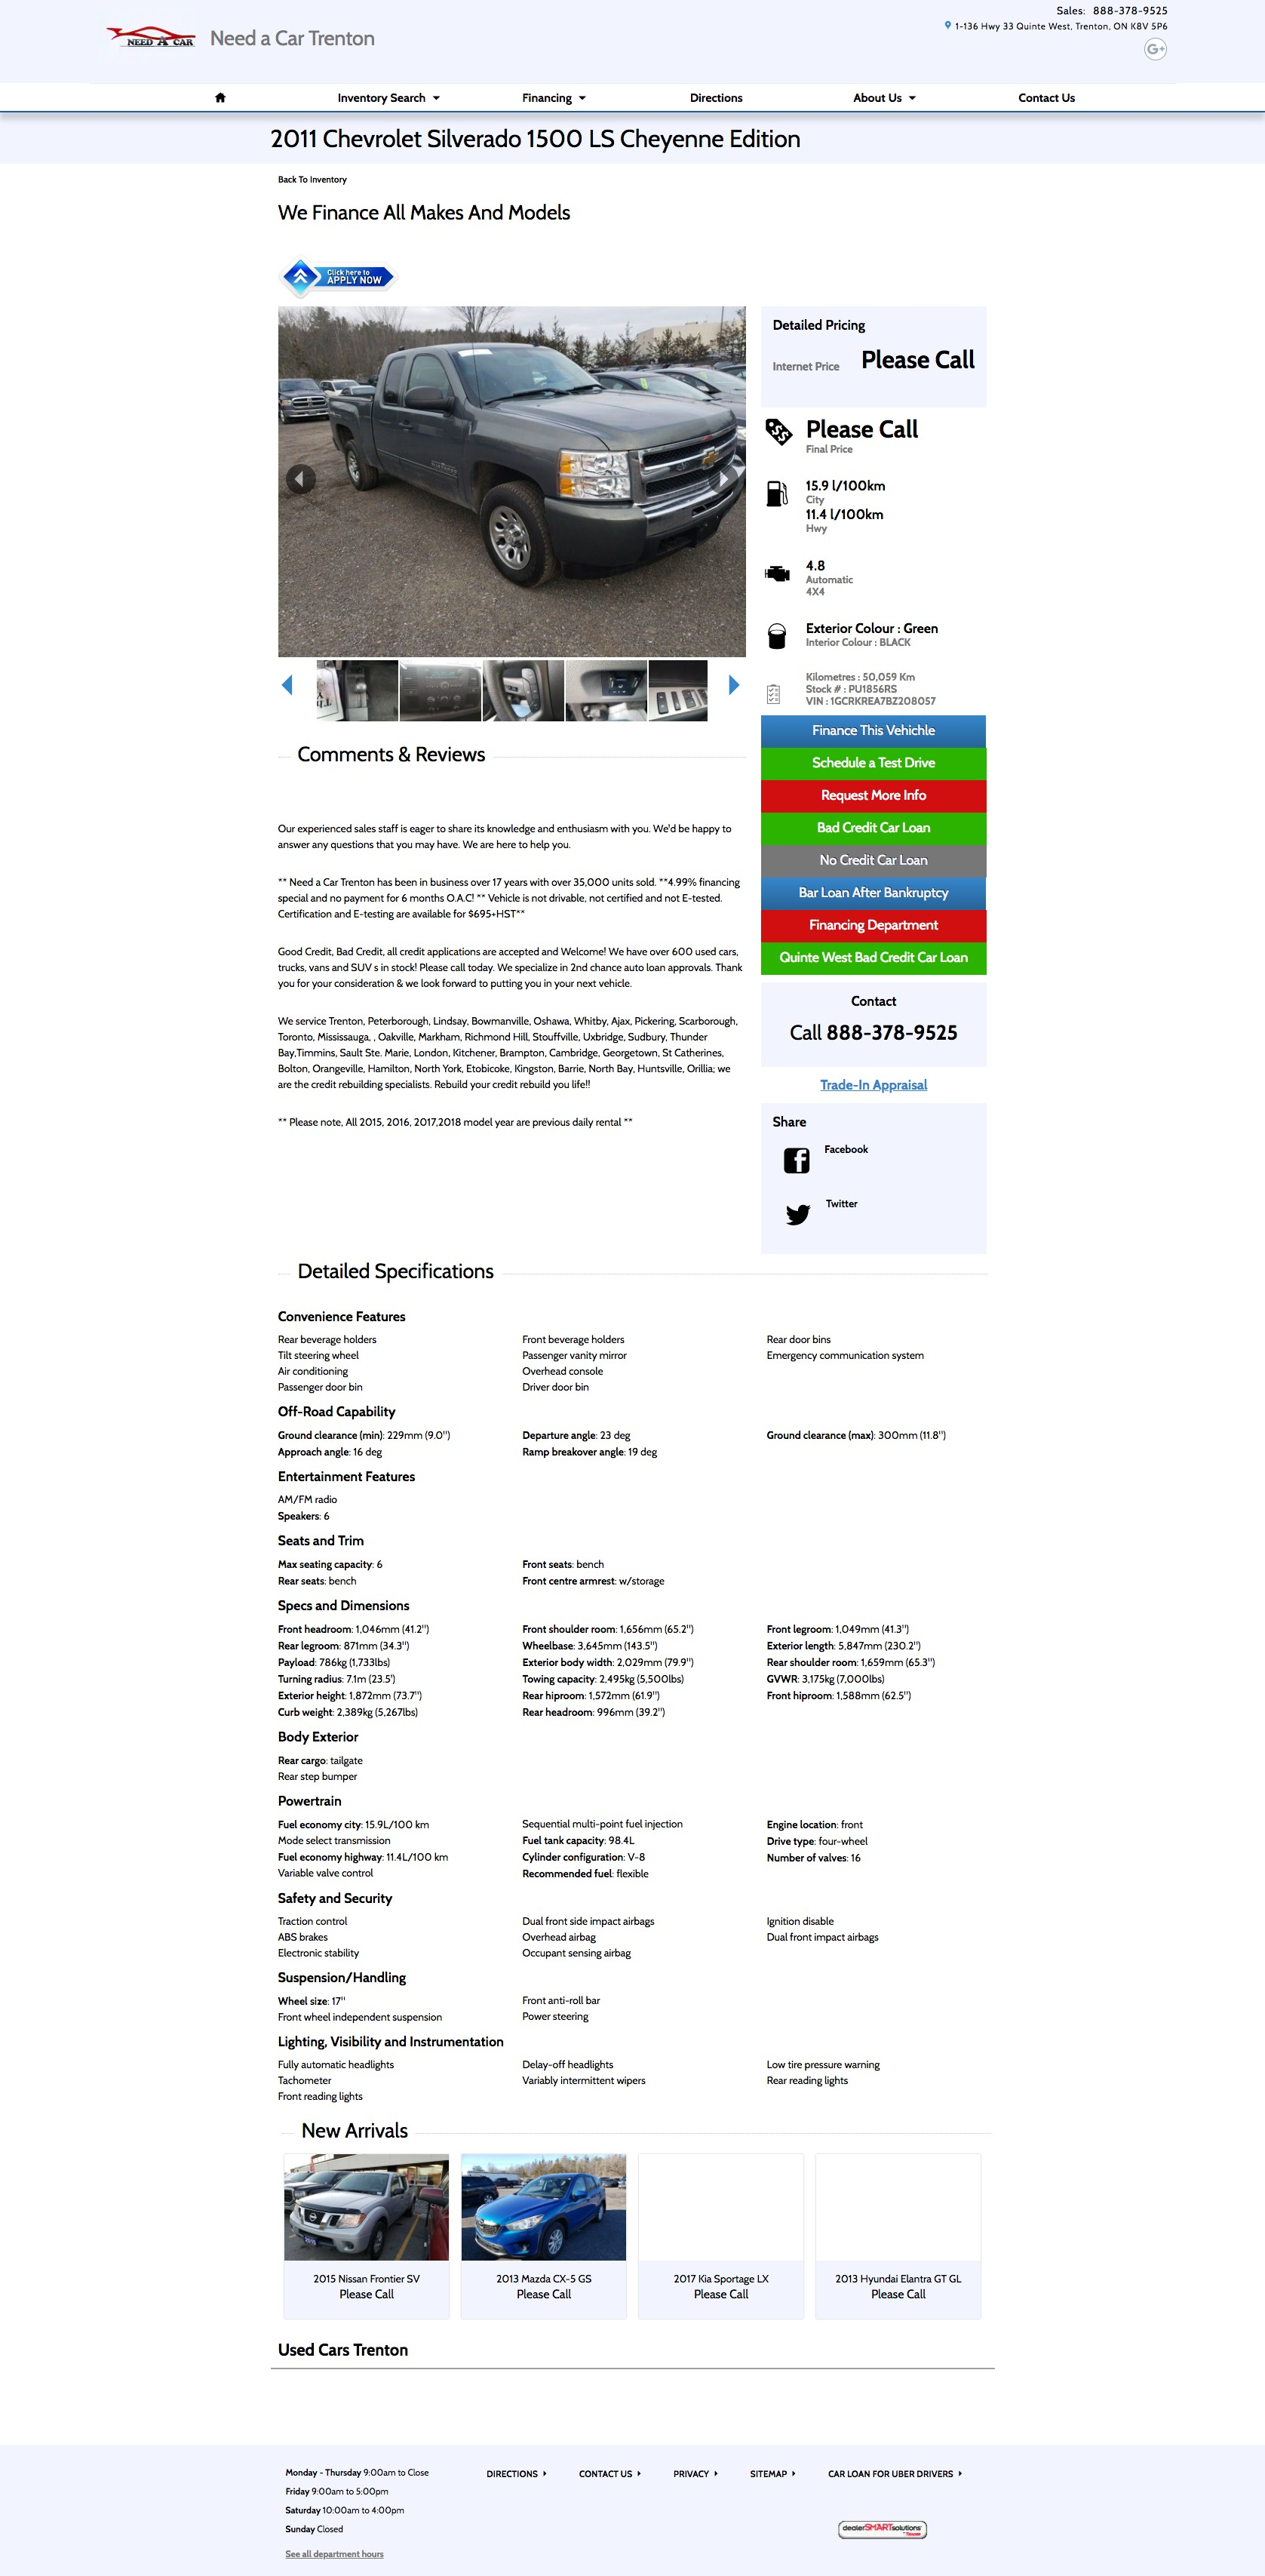car: (728, 674, 741, 697)
